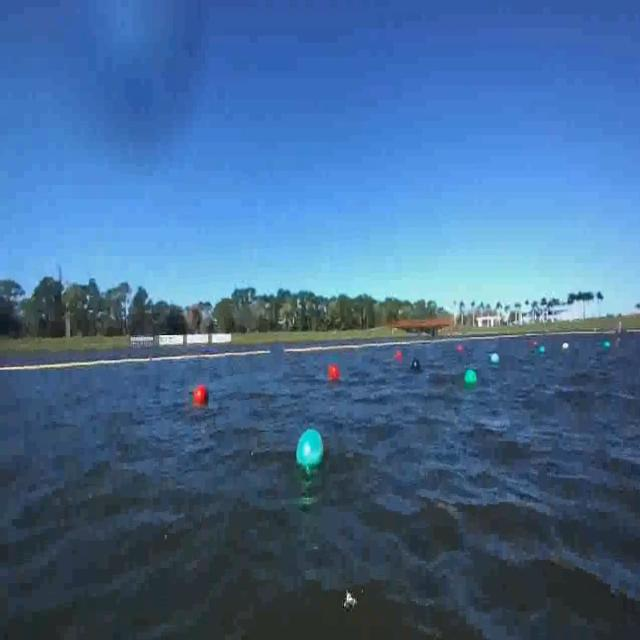black-buoy: (412, 357, 422, 371)
green-buoy: (296, 430, 326, 470), (466, 367, 479, 386)
red-buoy: (196, 382, 210, 405), (328, 363, 339, 381)
